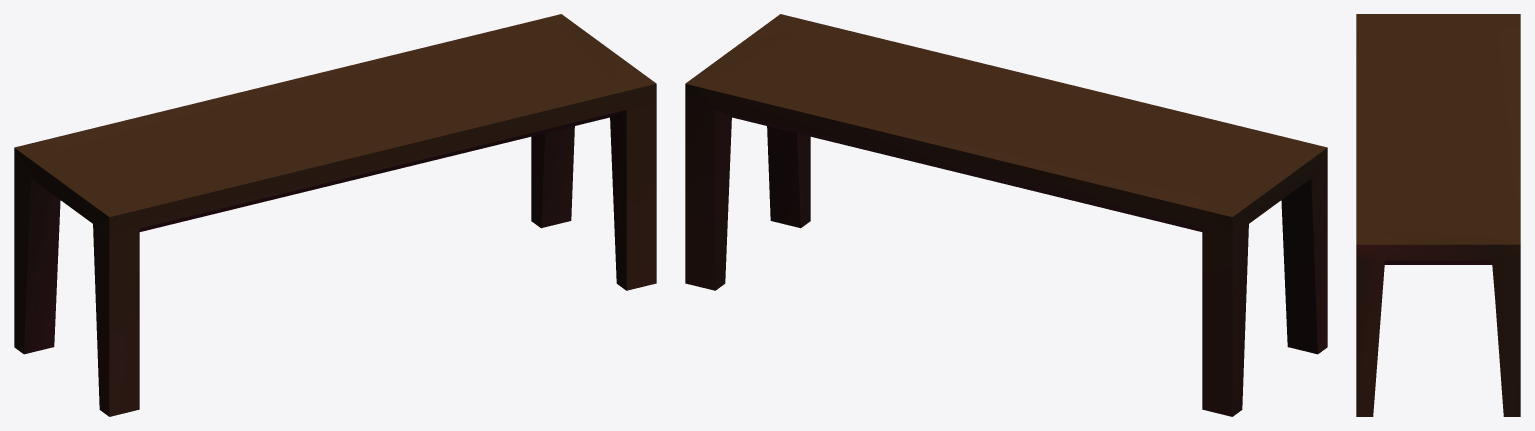
Rendered from bench.FBX.
The picture shows the model from 3 angles, left to right: view 1: azimuth 30°, elevation 25°; view 2: azimuth 150°, elevation 25°; view 3: azimuth 270°, elevation 25°; orthographic projection. The views are drawn at different scales.
Parts seen in each view (by area): view 1: bench; view 2: bench; view 3: bench.
Part boxes in pixels (bbox=[...]): bench: bbox=[14, 14, 656, 416]; bench: bbox=[685, 14, 1327, 416]; bench: bbox=[1356, 14, 1520, 416].
Bounding box in the file's own units: 1.66 × 0.5788 × 0.5005.
